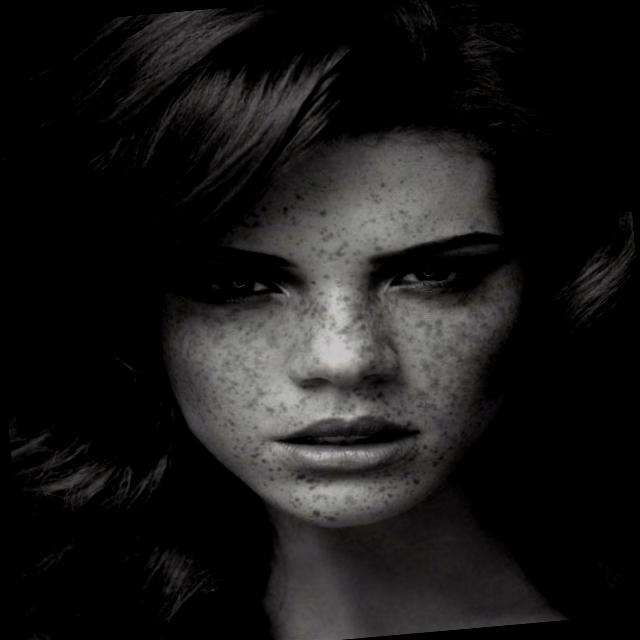freckle: (130, 264, 546, 534), (238, 164, 447, 264)
